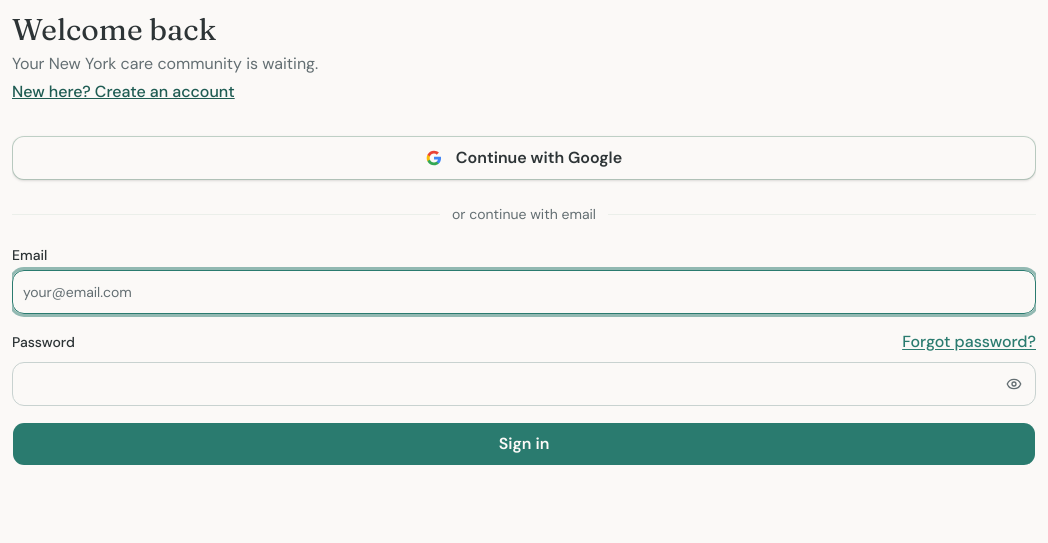
Test: login › hands the button back when a sign-in hangs, because retrying is safe
Type "nurse@example.com" into the field labelled "Email" at (524, 292), box [12,270,1036,314]
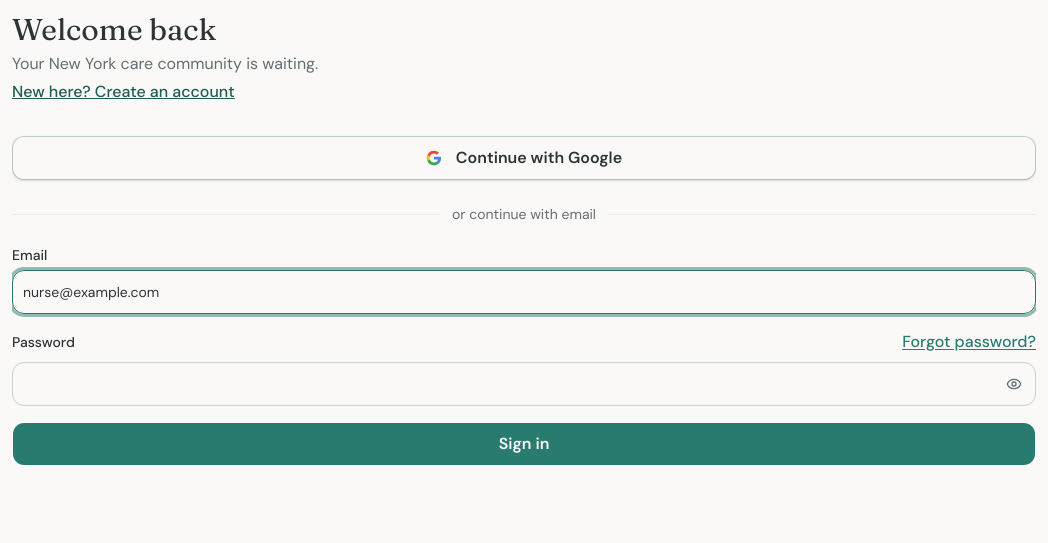
Type "correct horse battery" into the password field labelled "Password" at (524, 384), box [12,362,1036,406]
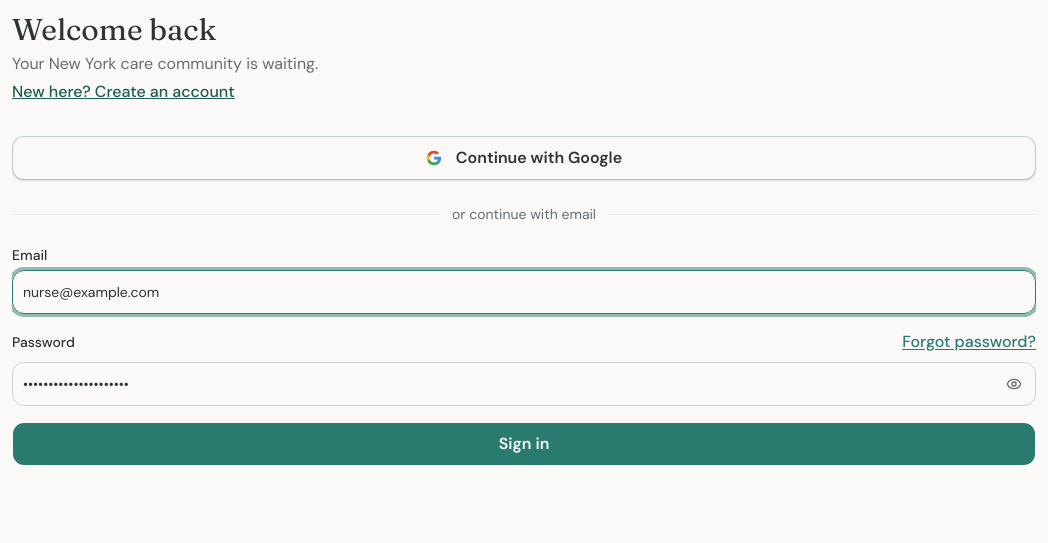
Click the button "Sign in" at (524, 444), box [12,422,1036,466]
Wait 22000 ms
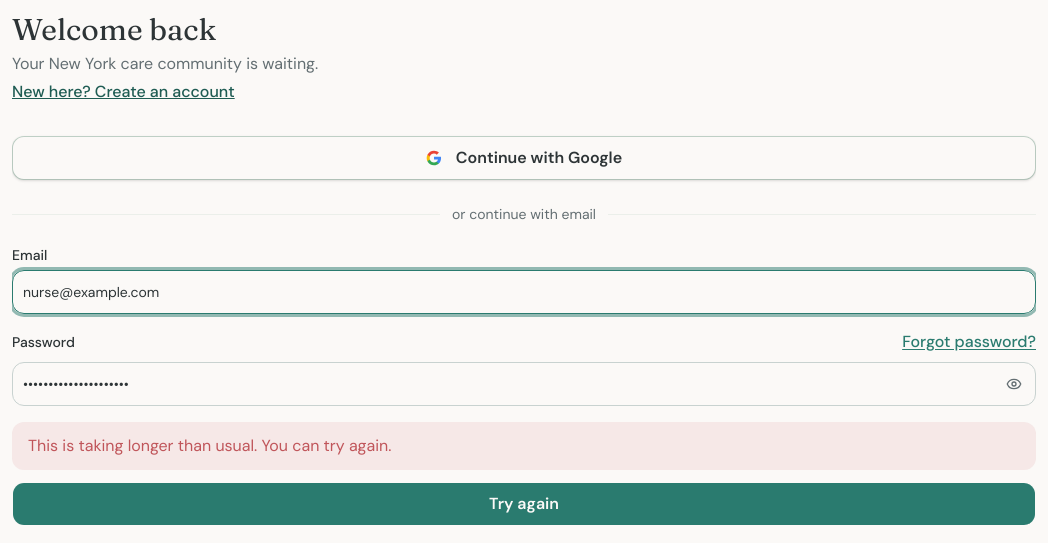
Expected: the button "Try again" is enabled, [12,482,1036,526]
Expected: the message "This is taking longer than usual. You can try again." is shown, [12,422,1036,470]
